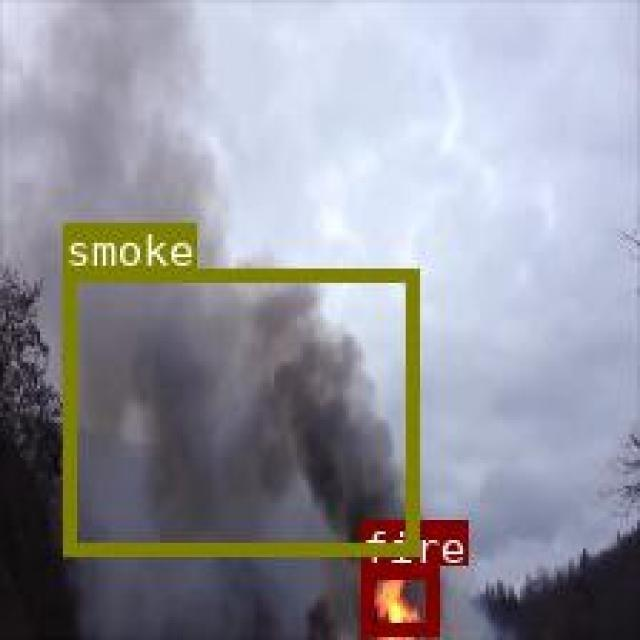fire: (359, 566, 437, 634)
smoke: (62, 268, 416, 554)
